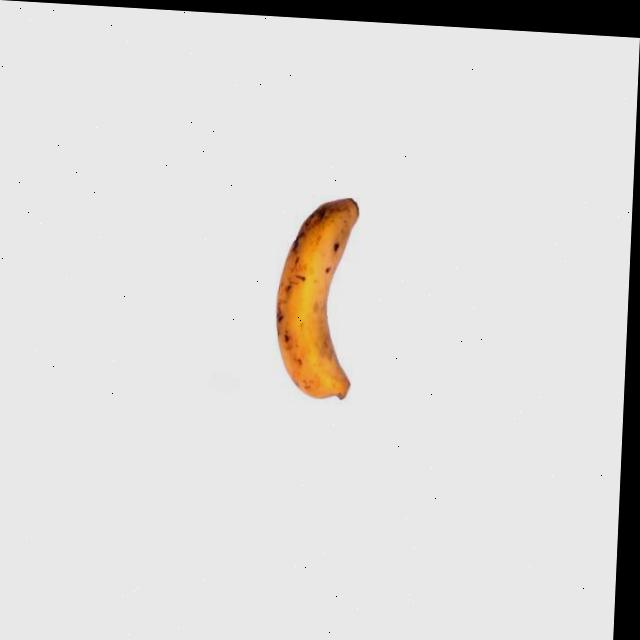banana: (269, 190, 363, 405)
